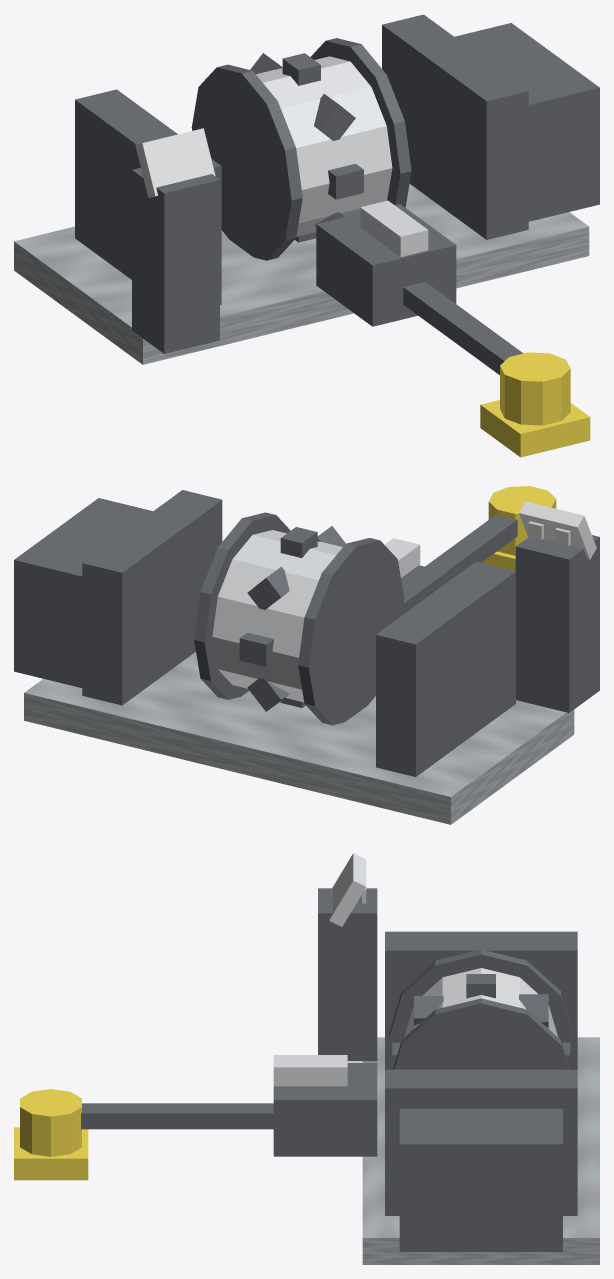
Rendered from cruise-ship-deck-and-lounge-cruise-ship-deck-and-loung-0b6c2ab3__38424.glb.
3 views of the same model, one above another, from view 1: azimuth 30°, elevation 25°; view 2: azimuth 150°, elevation 25°; view 3: azimuth 270°, elevation 25° (orthographic). The views are drawn at different scales.
Parts seen in each view (by area): view 1: cruise-ship-deck-and-lounge-anchor-windlass, windlass-gypsy/charcoal (×5), windlass-gypsy/steel; view 2: cruise-ship-deck-and-lounge-anchor-windlass, windlass-gypsy/charcoal (×6), windlass-gypsy/steel; view 3: cruise-ship-deck-and-lounge-anchor-windlass, windlass-gypsy/charcoal (×5), windlass-gypsy/steel.
Boxes of the visible parts, box(x1,y1,x2,y2) form: cruise-ship-deck-and-lounge-anchor-windlass: box(14, 14, 599, 457); windlass-gypsy/charcoal (×5): box(191, 38, 411, 260); windlass-gypsy/steel: box(256, 56, 392, 236); cruise-ship-deck-and-lounge-anchor-windlass: box(14, 486, 599, 824); windlass-gypsy/charcoal (×6): box(194, 512, 404, 725); windlass-gypsy/steel: box(212, 530, 342, 702); cruise-ship-deck-and-lounge-anchor-windlass: box(14, 853, 599, 1264); windlass-gypsy/charcoal (×5): box(389, 949, 573, 1069); windlass-gypsy/steel: box(404, 968, 558, 1037).
Size of the model in its own units: 3.46 by 1.55 by 3.95.
5 materials, 2 textured.
